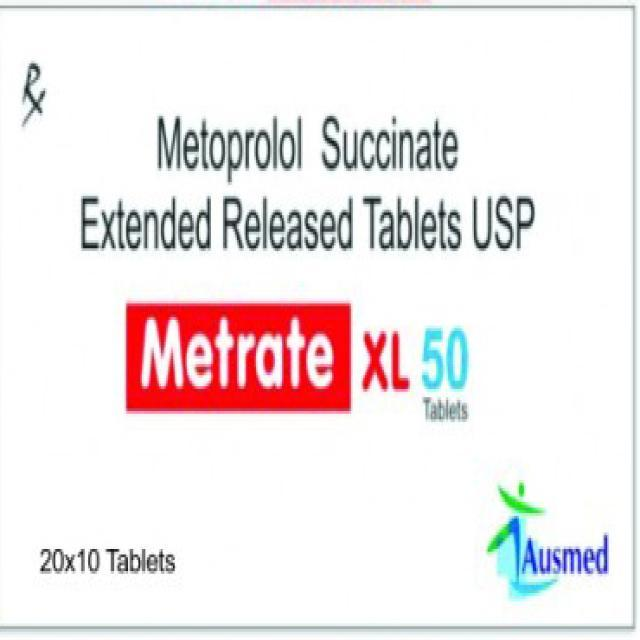drug-name: (139, 316, 336, 394)
